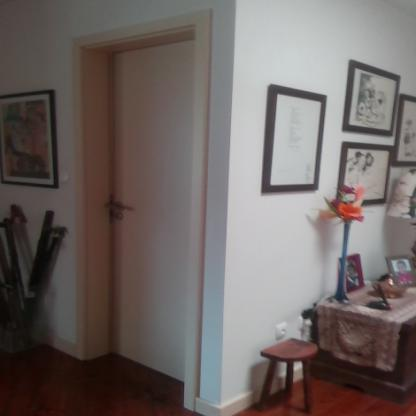door: (106, 52, 195, 378)
lever: (102, 200, 130, 211)
